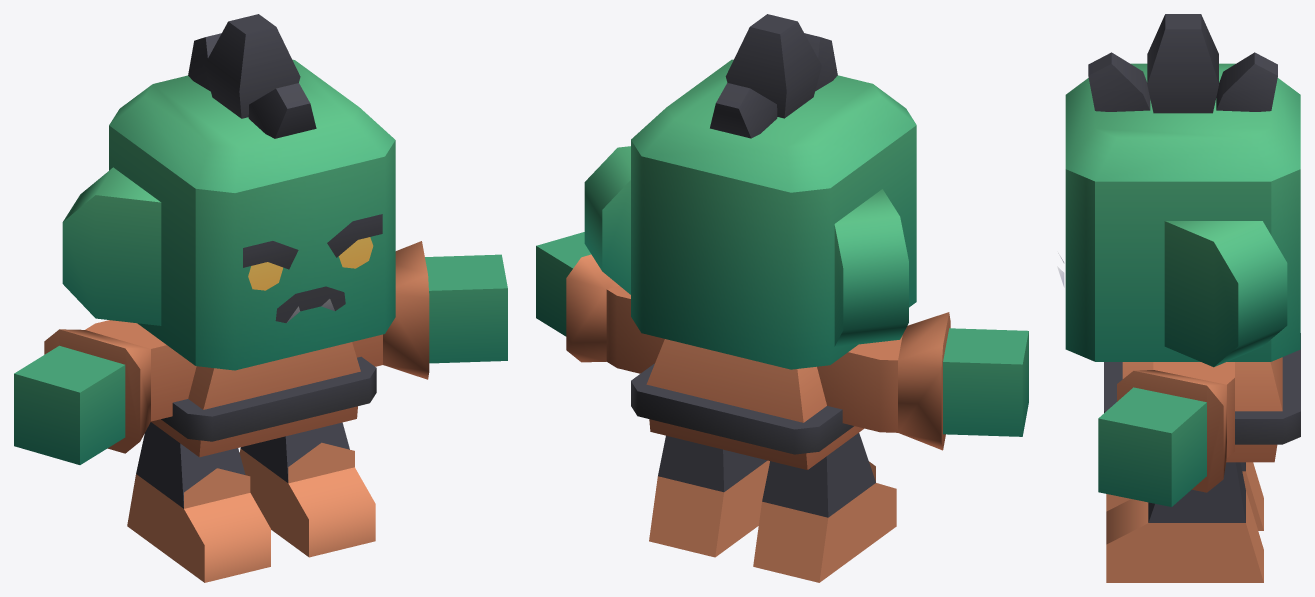
Rendered from character-orc.obj.
The picture shows the model from 3 angles, left to right: view 1: azimuth 30°, elevation 25°; view 2: azimuth 150°, elevation 25°; view 3: azimuth 270°, elevation 25°; orthographic projection.
Visible parts, largest first — view 1: head-mesh, body-mesh; view 2: head-mesh, body-mesh; view 3: head-mesh, body-mesh.
Boxes of the visible parts, left/top/right/bottom form: head-mesh: left=62, top=14, right=395, bottom=370; body-mesh: left=14, top=241, right=507, bottom=582; head-mesh: left=584, top=14, right=916, bottom=369; body-mesh: left=536, top=232, right=1028, bottom=582; head-mesh: left=1057, top=14, right=1300, bottom=367; body-mesh: left=1098, top=333, right=1300, bottom=582.
Size of the model in its own units: 0.7806 by 0.7803 by 0.3325.
Materials: 1 (1 with a texture image).
